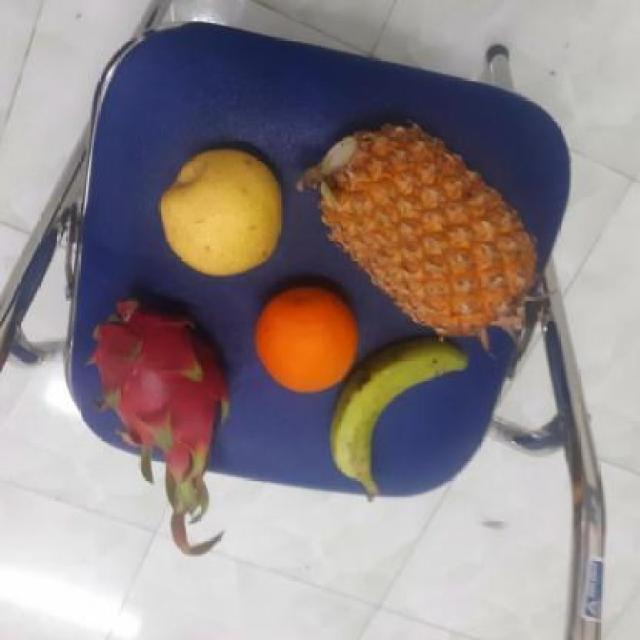dragon fruit: (95, 292, 237, 466)
oren: (252, 282, 363, 393)
pear: (159, 149, 292, 276)
pineapple: (308, 125, 542, 334)
